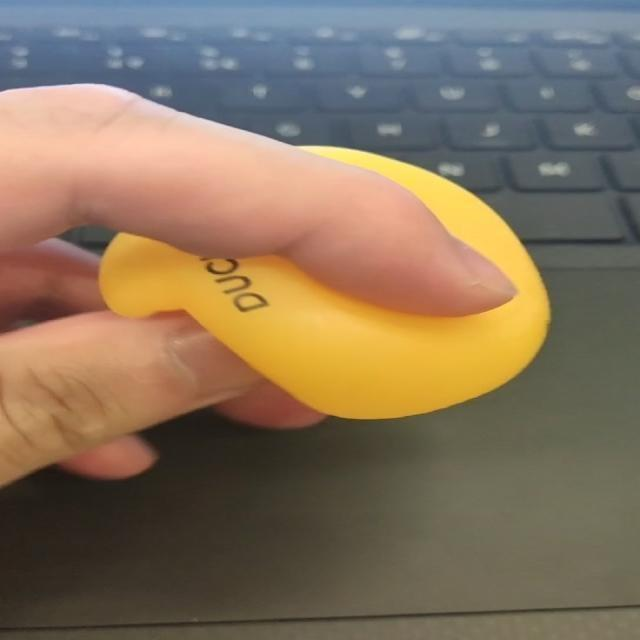rubber-duck: (98, 145, 548, 417)
